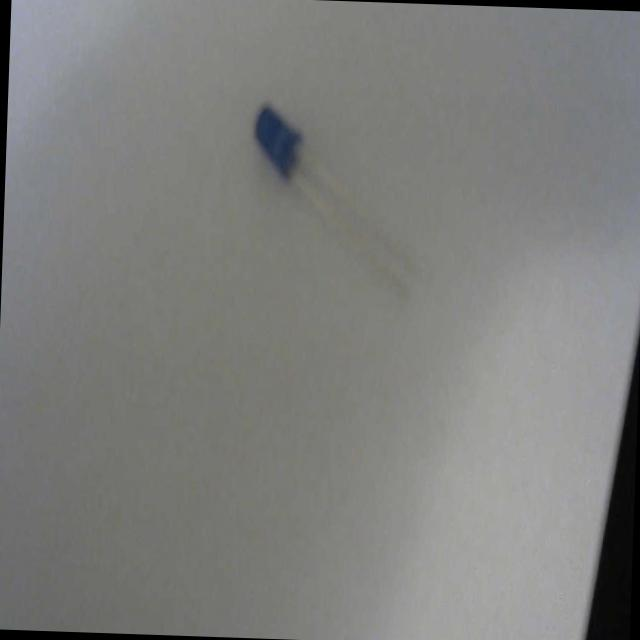blue_led: (252, 102, 302, 182)
